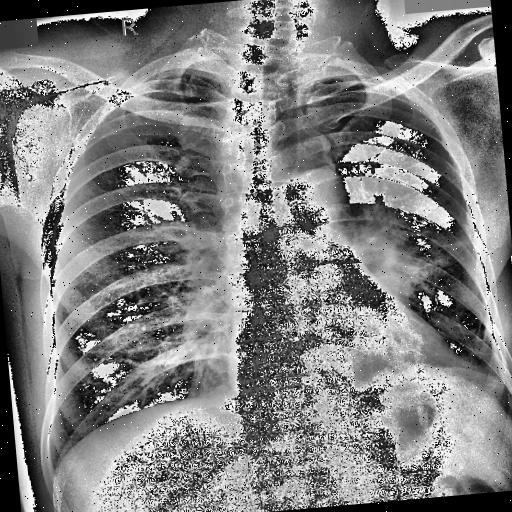0- Aortic enlargement: (282, 168, 356, 252), (282, 168, 356, 228), (282, 164, 352, 224)
11- Pleural thickening: (302, 67, 386, 99), (134, 66, 227, 90), (306, 60, 376, 88), (139, 66, 225, 88)
13- Pulmonary fibrosis: (99, 342, 230, 376), (450, 304, 493, 360), (348, 154, 370, 183), (438, 237, 472, 249)
3- Cardiomegaly: (222, 329, 478, 416), (226, 351, 472, 414)
5- ILD: (360, 188, 458, 302)
6- Infiltration: (326, 190, 477, 308), (360, 188, 458, 302)
7- Lung Opacity: (341, 210, 417, 302)
